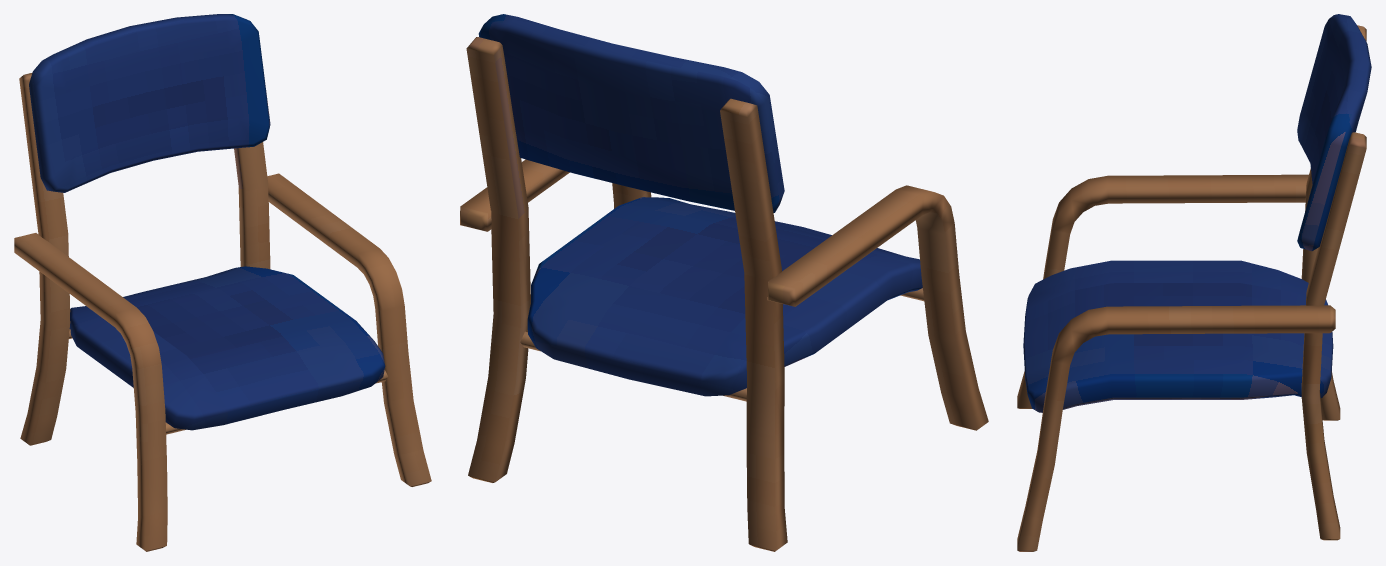
Rendered from a_com_building_b01_chair01.gltf.
3 views of the same model, side by side, from view 1: azimuth 30°, elevation 25°; view 2: azimuth 150°, elevation 25°; view 3: azimuth 270°, elevation 25° (orthographic). The views are drawn at different scales.
Parts seen in each view (by area): view 1: a_com_building_b01_chair01_mesh_shape:a_com_building_b01_cha; view 2: a_com_building_b01_chair01_mesh_shape:a_com_building_b01_cha; view 3: a_com_building_b01_chair01_mesh_shape:a_com_building_b01_cha.
Part boxes in pixels (bbox=[...]): a_com_building_b01_chair01_mesh_shape:a_com_building_b01_cha: bbox=[14, 14, 431, 551]; a_com_building_b01_chair01_mesh_shape:a_com_building_b01_cha: bbox=[460, 14, 988, 551]; a_com_building_b01_chair01_mesh_shape:a_com_building_b01_cha: bbox=[1017, 14, 1371, 551].
Bounding box in the file's own units: 0.7179 × 0.9066 × 0.6974.
Materials: 1 (1 with a texture image).
